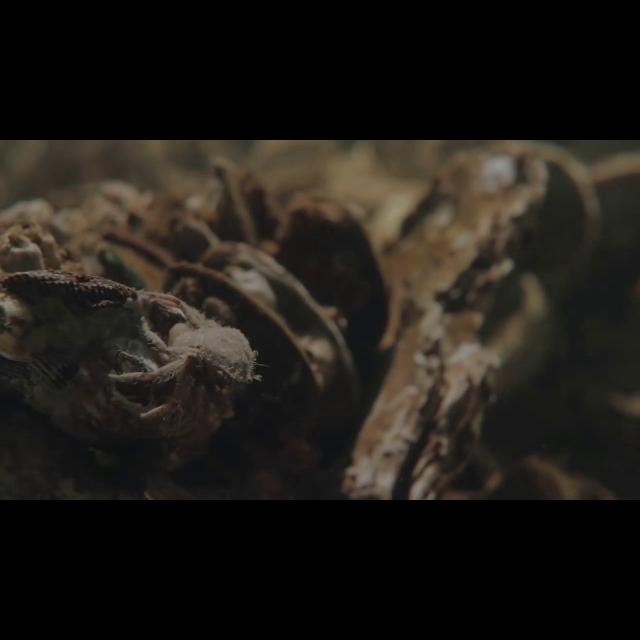Oyster-Open: (164, 238, 365, 418)
